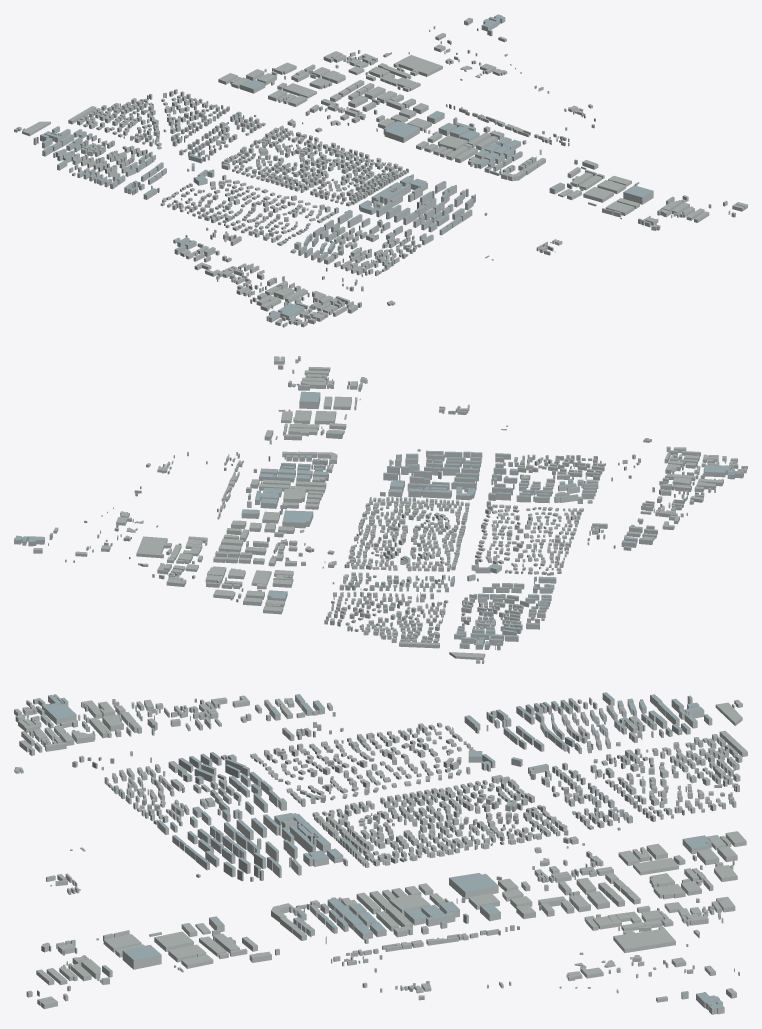
File: far.glb
The picture shows the model from 3 angles, top to bottom: view 1: azimuth 30°, elevation 25°; view 2: azimuth 150°, elevation 25°; view 3: azimuth 270°, elevation 25°; orthographic projection. The views are drawn at different scales.
Bounding box in the file's own units: 2167 × 33.5 × 2125.
